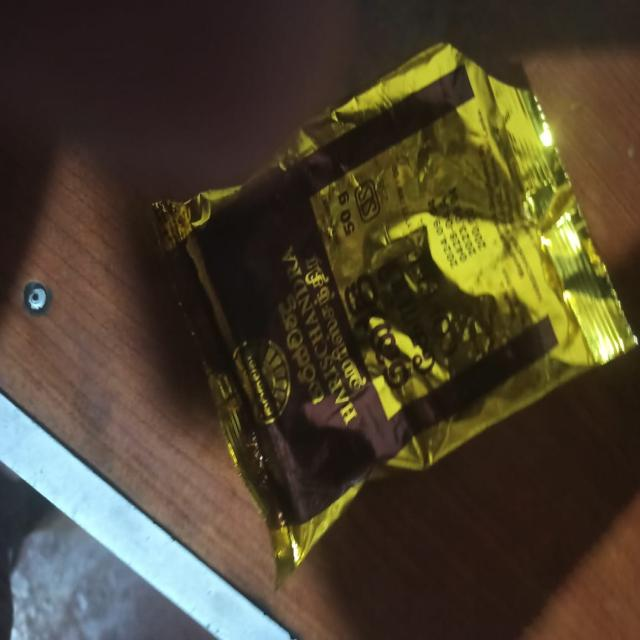Harischandra Coffee: (98, 18, 626, 581)
